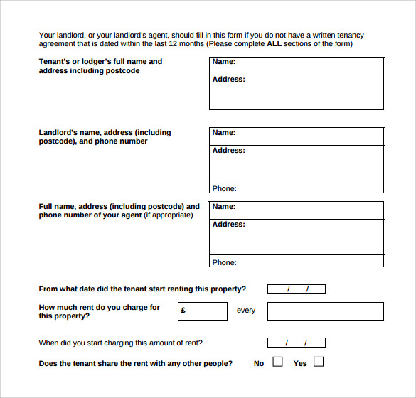checkbox: (271, 356, 286, 368), (311, 356, 326, 368)
textbox: (206, 142, 388, 185), (206, 216, 385, 259), (208, 72, 386, 113), (206, 55, 388, 79), (205, 199, 387, 223), (207, 126, 389, 147), (205, 252, 387, 270), (207, 178, 387, 196), (266, 299, 386, 324), (174, 300, 229, 323), (266, 335, 327, 350), (263, 282, 327, 296), (299, 334, 328, 351), (265, 334, 291, 349), (284, 334, 307, 349), (265, 282, 289, 295), (286, 282, 310, 295), (306, 282, 326, 295)
